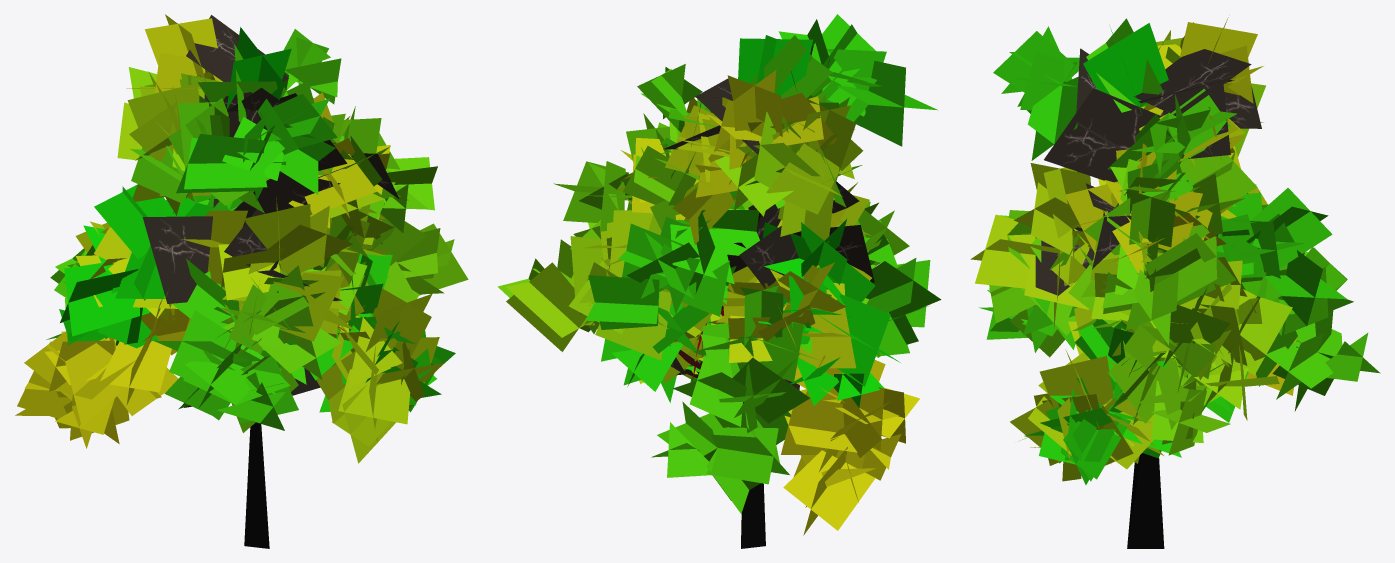
Rendered from linden2 lod2.FBX.
The picture shows the model from 3 angles, left to right: view 1: azimuth 30°, elevation 25°; view 2: azimuth 150°, elevation 25°; view 3: azimuth 270°, elevation 25°; orthographic projection.
Parts seen in each view (by area): view 1: linden2_LOD2; view 2: linden2_LOD2; view 3: linden2_LOD2.
Part boxes in pixels (bbox=[...]): linden2_LOD2: bbox=[15, 14, 468, 548]; linden2_LOD2: bbox=[497, 14, 941, 548]; linden2_LOD2: bbox=[970, 17, 1380, 548].
Bounding box in the file's own units: 120899 × 146125 × 105049.
